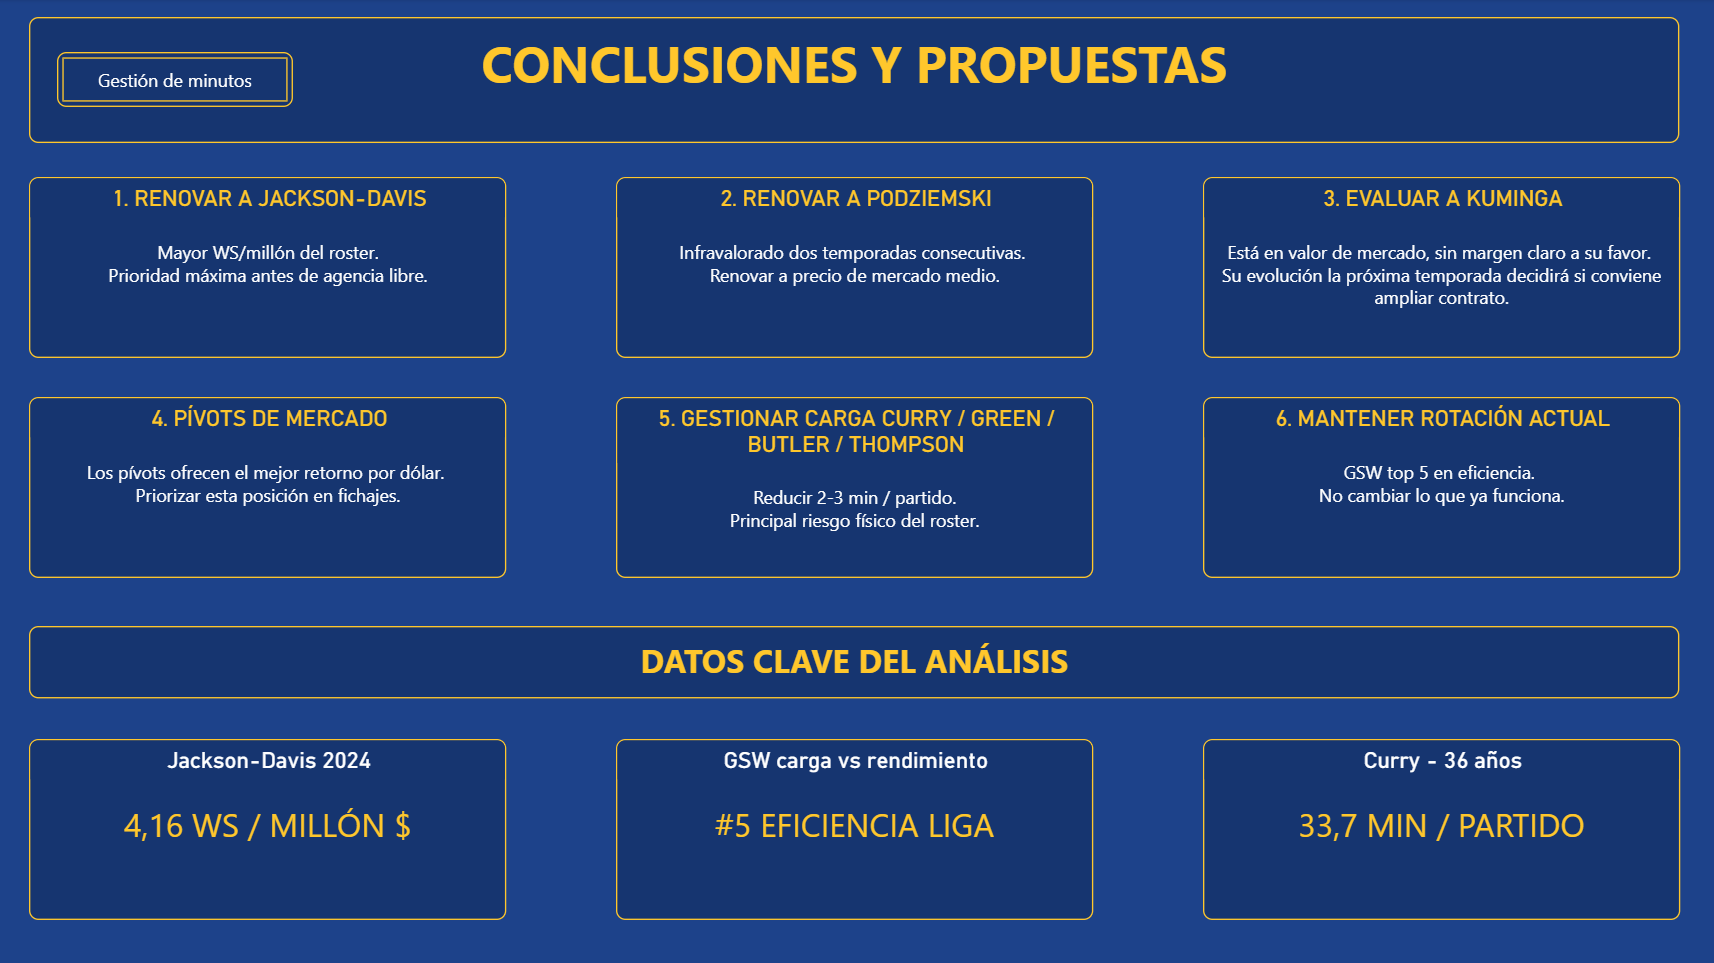

This screenshot's page, from the dashboard's own definition file:
{"tool":"powerbi","page":{"name":"Conclusiones y propuestas","canvas":[1280,720],"ordinal":4},"visuals":[{"type":"textbox","title":"1. RENOVAR A JACKSON-DAVIS","box":[21.4,132.9,356.4,135],"z":0},{"type":"textbox","title":"2. RENOVAR A PODZIEMSKI","box":[459.3,132.9,356,135],"z":1000},{"type":"textbox","title":"3. EVALUAR A KUMINGA","box":[897.1,132.9,356,135],"z":2000},{"type":"textbox","title":"4. PÍVOTS DE MERCADO","box":[21.4,297.1,356.4,135],"z":3000},{"type":"textbox","title":"5. GESTIONAR CARGA CURRY / GREEN / BUTLER","box":[459.3,297.1,356,135],"z":4000},{"type":"textbox","title":"6. MANTENER ROTACIÓN ACTUAL","box":[897.1,297.1,356,135],"z":5000},{"type":"textbox","box":[21.4,13.6,1231.4,94.3],"z":6000},{"type":"textbox","box":[21.4,467.9,1231.4,53.6],"z":7000},{"type":"textbox","title":"Jackson-Davis 2024","box":[21.4,552.1,356.4,135],"z":8000},{"type":"textbox","title":"GSW carga vs rendimiento","box":[459.3,552.1,356,135],"z":9000},{"type":"textbox","title":"Curry - 36 años","box":[897.1,552.1,356,135],"z":10000},{"type":"pageNavigator","box":[42.5,39.5,176,41],"z":11000}]}

Visuals, with their boxes in screenshot pixels (x1, y1, x2, y2), scaled from the page's 1280x720 canvas onto the 1714x963 screenshot:
"1. RENOVAR A JACKSON-DAVIS" textbox: {"x1": 29, "y1": 178, "x2": 506, "y2": 358}
"2. RENOVAR A PODZIEMSKI" textbox: {"x1": 615, "y1": 178, "x2": 1092, "y2": 358}
"3. EVALUAR A KUMINGA" textbox: {"x1": 1201, "y1": 178, "x2": 1678, "y2": 358}
"4. PÍVOTS DE MERCADO" textbox: {"x1": 29, "y1": 397, "x2": 506, "y2": 578}
"5. GESTIONAR CARGA CURRY / GREEN / BUTLER" textbox: {"x1": 615, "y1": 397, "x2": 1092, "y2": 578}
"6. MANTENER ROTACIÓN ACTUAL" textbox: {"x1": 1201, "y1": 397, "x2": 1678, "y2": 578}
textbox: {"x1": 29, "y1": 18, "x2": 1678, "y2": 144}
textbox: {"x1": 29, "y1": 626, "x2": 1678, "y2": 698}
"Jackson-Davis 2024" textbox: {"x1": 29, "y1": 738, "x2": 506, "y2": 919}
"GSW carga vs rendimiento" textbox: {"x1": 615, "y1": 738, "x2": 1092, "y2": 919}
"Curry - 36 años" textbox: {"x1": 1201, "y1": 738, "x2": 1678, "y2": 919}
pageNavigator: {"x1": 57, "y1": 53, "x2": 293, "y2": 108}
